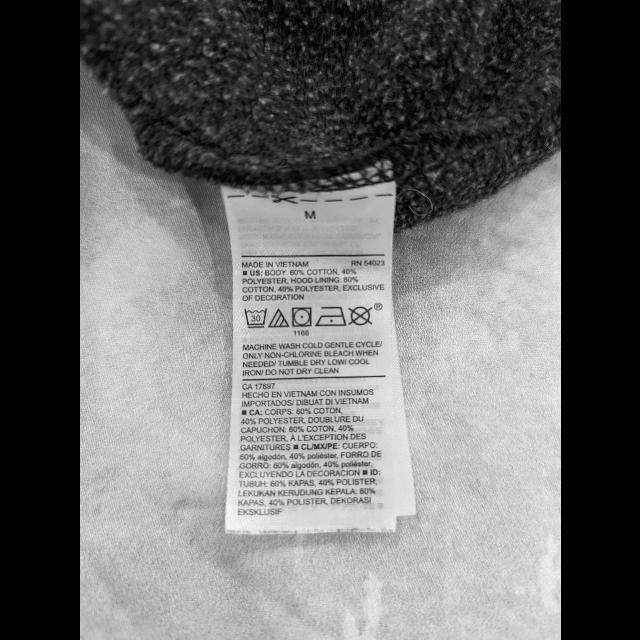30C: (242, 306, 268, 330)
DN_dry_clean: (346, 305, 374, 327)
iron_low: (314, 306, 346, 328)
non_chlorine_bleach: (267, 308, 289, 328)
tumble_dry_low: (290, 306, 312, 328)
